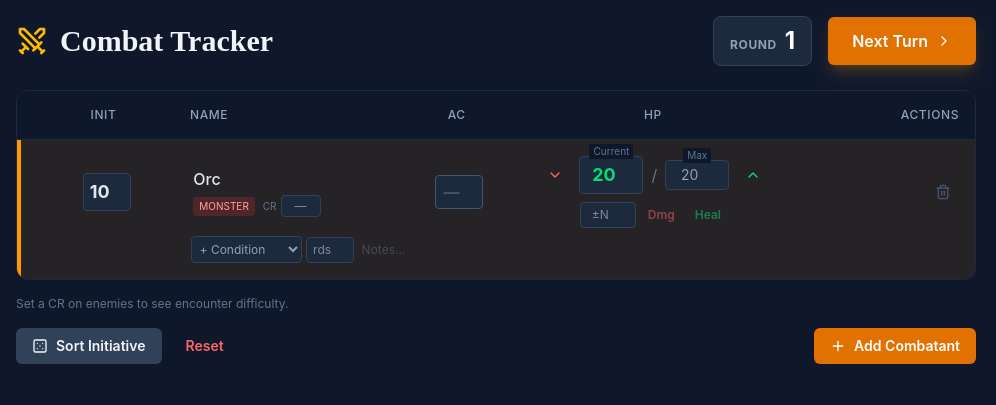
Test: encounter difficulty readout › updates when a CR is typed on a combatant
Type "1/2" into the field named "Challenge rating for Orc" at (301, 206), box [281,195,321,217]
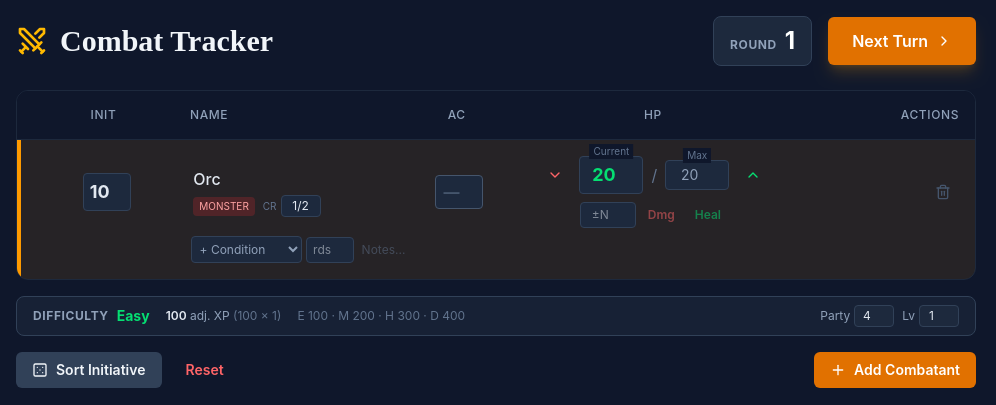
Result: the element named "Encounter difficulty" is shown at [16,296,976,336]
